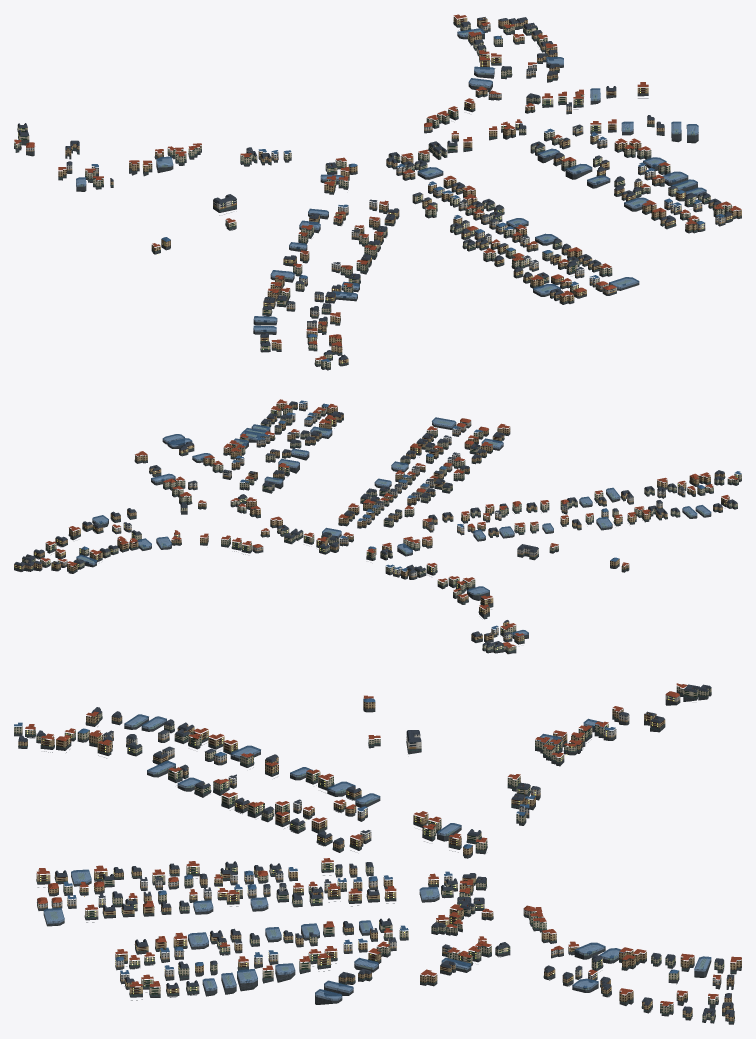
The model's file is osm_buildings_T_W01_N02_Q4.glb.
3 views of the same model, one above another, from view 1: azimuth 30°, elevation 25°; view 2: azimuth 150°, elevation 25°; view 3: azimuth 270°, elevation 25° (orthographic). The views are drawn at different scales.
Visible parts, largest first — view 1: OSM_T_W01_N02_Q4_foundation, OSM_T_W01_N02_Q4_wall_french_ochre, OSM_T_W01_N02_Q4_wall_cream_stucco, OSM_T_W01_N02_Q4_greenhouse_blend, OSM_T_W01_N02_Q4_roof_terracotta, OSM_T_W01_N02_Q4_roof_mansard_slate, OSM_T_W01_N02_Q4_roof_mansard_deck, OSM_T_W01_N02_Q4_wall_pastel_sand, OSM_T_W01_N02_Q4_wall_warm_white, OSM_T_W01_N02_Q4_roof_mint_metal, OSM_T_W01_N02_Q4_roof_alpine_blue, OSM_T_W01_N02_Q4_trim_cornice (+1 smaller); view 2: OSM_T_W01_N02_Q4_foundation, OSM_T_W01_N02_Q4_wall_french_ochre, OSM_T_W01_N02_Q4_wall_cream_stucco, OSM_T_W01_N02_Q4_roof_terracotta, OSM_T_W01_N02_Q4_greenhouse_blend, OSM_T_W01_N02_Q4_roof_mansard_slate, OSM_T_W01_N02_Q4_roof_mansard_deck, OSM_T_W01_N02_Q4_wall_pastel_sand, OSM_T_W01_N02_Q4_wall_warm_white, OSM_T_W01_N02_Q4_roof_mint_metal, OSM_T_W01_N02_Q4_roof_alpine_blue, OSM_T_W01_N02_Q4_trim_cornice (+1 smaller); view 3: OSM_T_W01_N02_Q4_foundation, OSM_T_W01_N02_Q4_wall_french_ochre, OSM_T_W01_N02_Q4_wall_cream_stucco, OSM_T_W01_N02_Q4_greenhouse_blend, OSM_T_W01_N02_Q4_roof_terracotta, OSM_T_W01_N02_Q4_roof_mansard_slate, OSM_T_W01_N02_Q4_roof_mansard_deck, OSM_T_W01_N02_Q4_wall_pastel_sand, OSM_T_W01_N02_Q4_roof_mint_metal, OSM_T_W01_N02_Q4_wall_warm_white, OSM_T_W01_N02_Q4_roof_alpine_blue, OSM_T_W01_N02_Q4_balcony_railing (+2 smaller).
Boxes of the visible parts, x1,y1,x2,y2 form: OSM_T_W01_N02_Q4_foundation: (14,22,741,370); OSM_T_W01_N02_Q4_wall_french_ochre: (58,17,741,363); OSM_T_W01_N02_Q4_wall_cream_stucco: (14,24,731,368); OSM_T_W01_N02_Q4_greenhouse_blend: (76,28,706,331); OSM_T_W01_N02_Q4_roof_terracotta: (14,14,741,359); OSM_T_W01_N02_Q4_roof_mansard_slate: (18,17,732,360); OSM_T_W01_N02_Q4_roof_mansard_deck: (18,17,730,357); OSM_T_W01_N02_Q4_wall_pastel_sand: (26,64,725,328); OSM_T_W01_N02_Q4_wall_warm_white: (213,24,702,316); OSM_T_W01_N02_Q4_roof_mint_metal: (16,22,741,364); OSM_T_W01_N02_Q4_roof_alpine_blue: (91,36,725,361); OSM_T_W01_N02_Q4_trim_cornice: (16,17,738,362); OSM_T_W01_N02_Q4_foundation: (14,407,741,654); OSM_T_W01_N02_Q4_wall_french_ochre: (14,403,729,641); OSM_T_W01_N02_Q4_wall_cream_stucco: (22,408,741,651); OSM_T_W01_N02_Q4_roof_terracotta: (40,399,738,647); OSM_T_W01_N02_Q4_greenhouse_blend: (76,417,711,636); OSM_T_W01_N02_Q4_roof_mansard_slate: (14,402,737,647); OSM_T_W01_N02_Q4_roof_mansard_deck: (15,401,736,645); OSM_T_W01_N02_Q4_wall_pastel_sand: (112,402,685,649); OSM_T_W01_N02_Q4_wall_warm_white: (57,415,665,575); OSM_T_W01_N02_Q4_roof_mint_metal: (14,407,738,651); OSM_T_W01_N02_Q4_roof_alpine_blue: (81,400,741,629); OSM_T_W01_N02_Q4_trim_cornice: (31,403,737,649); OSM_T_W01_N02_Q4_foundation: (14,691,741,1024); OSM_T_W01_N02_Q4_wall_french_ochre: (18,697,741,1021); OSM_T_W01_N02_Q4_wall_cream_stucco: (14,686,724,1020); OSM_T_W01_N02_Q4_greenhouse_blend: (43,714,711,1000); OSM_T_W01_N02_Q4_roof_terracotta: (25,683,741,1011); OSM_T_W01_N02_Q4_roof_mansard_slate: (18,685,734,1016); OSM_T_W01_N02_Q4_roof_mansard_deck: (19,684,733,1014); OSM_T_W01_N02_Q4_wall_pastel_sand: (98,695,680,981); OSM_T_W01_N02_Q4_roof_mint_metal: (18,692,740,1022); OSM_T_W01_N02_Q4_wall_warm_white: (37,734,721,985); OSM_T_W01_N02_Q4_roof_alpine_blue: (14,698,678,974); OSM_T_W01_N02_Q4_balcony_railing: (18,697,730,1021).
Bounding box in the file's own units: 992 × 76.56 × 987.
Materials: 16 (16 with a texture image).
